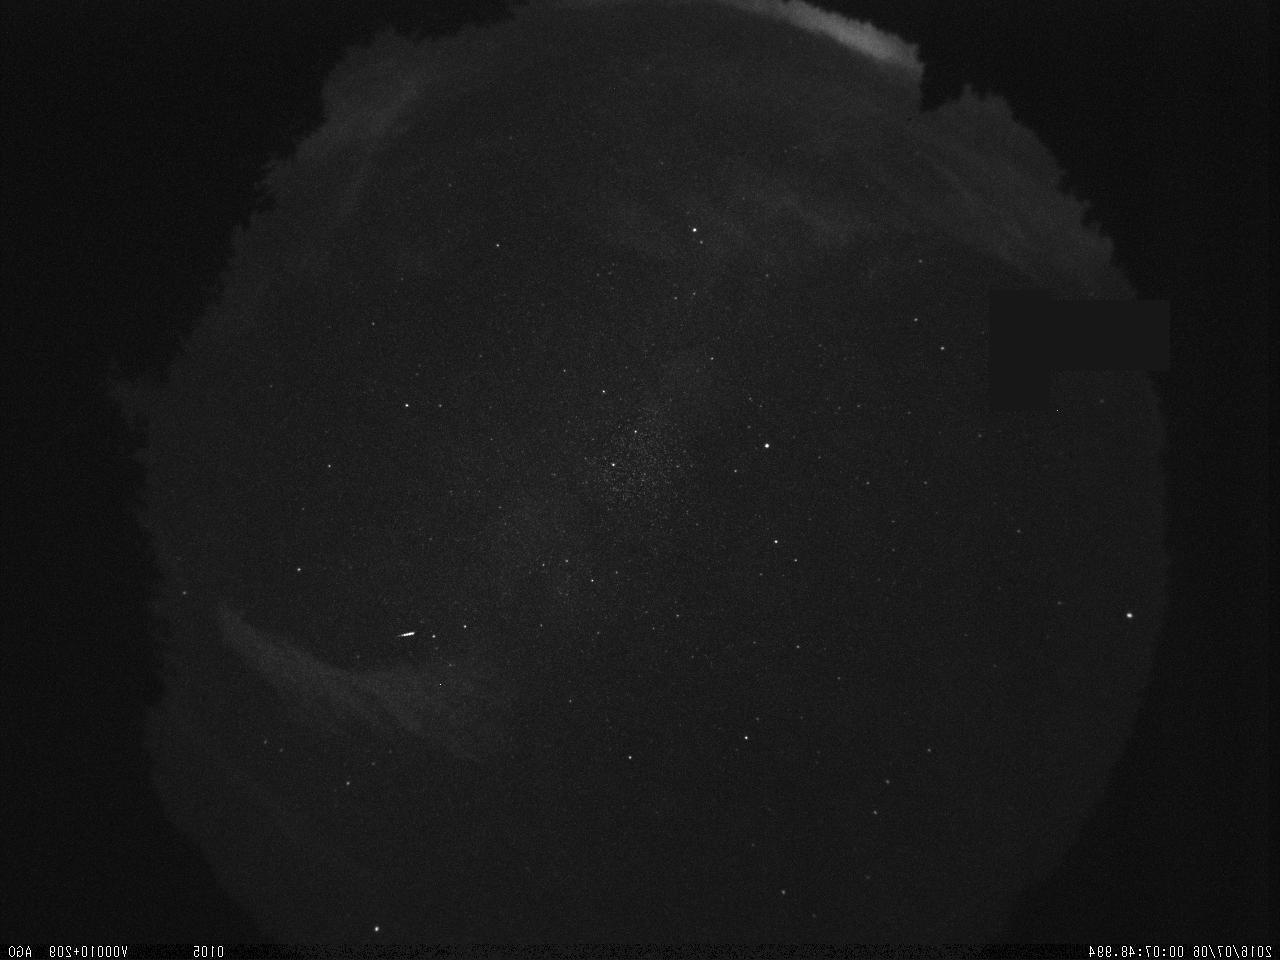meteor: (387, 616, 427, 653)
